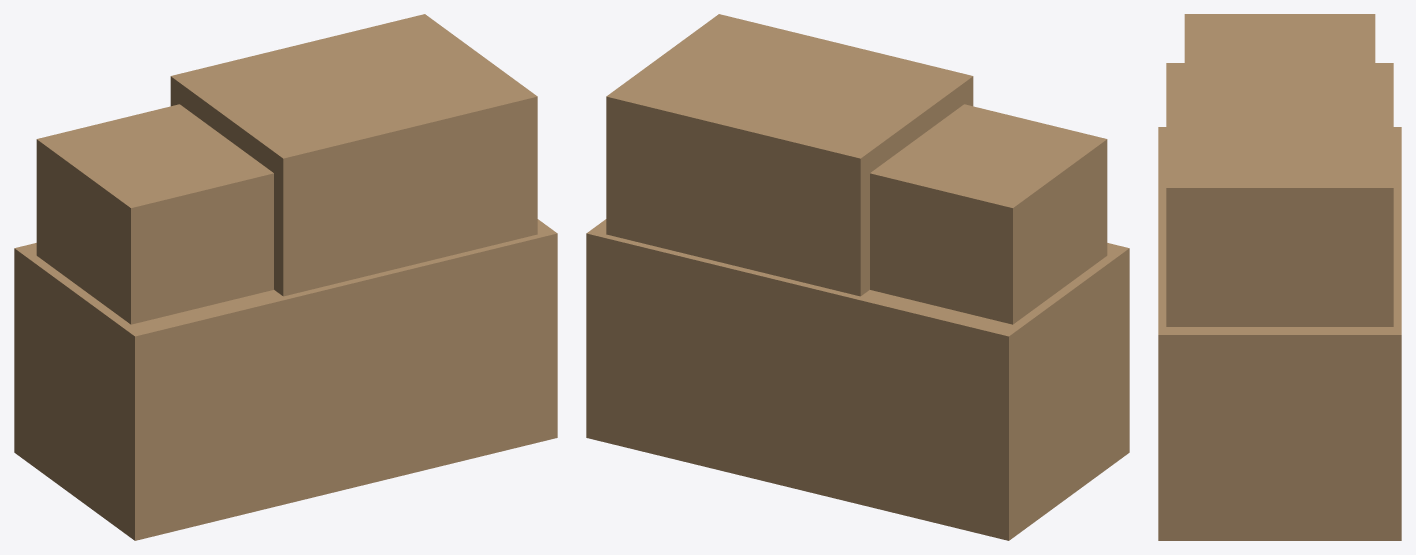
The model's file is crate_stack_large.gltf.
3 views of the same model, side by side, from view 1: azimuth 30°, elevation 25°; view 2: azimuth 150°, elevation 25°; view 3: azimuth 270°, elevation 25° (orthographic).
Bounding box in the file's own units: 1.86 × 1.44 × 0.92.
